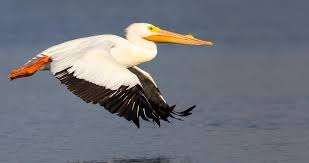pelican: (10, 23, 214, 126)
